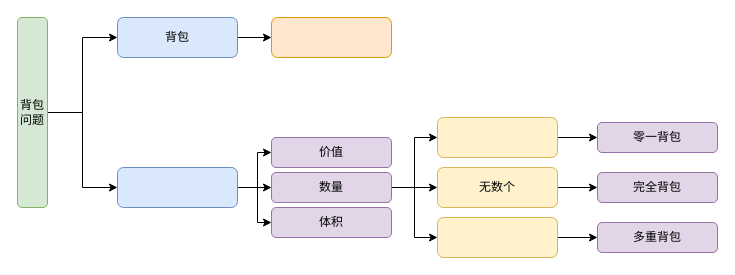
Image size: 735x275. Some labels were removed from this diagram. Here are the shapes that lost their labels. From the top down, the centre of each, then its label:
At pixel 331 37: "最大容量".
At pixel 497 137: "一个".
At pixel 177 187: "物品".
At pixel 497 237: "不同物品数量不同".
